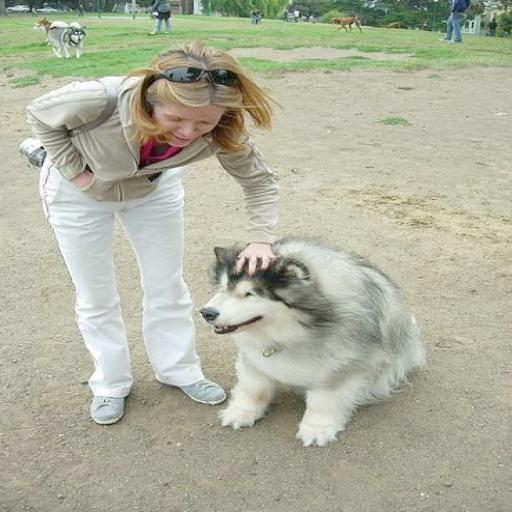dog_face: (196, 243, 322, 337)
